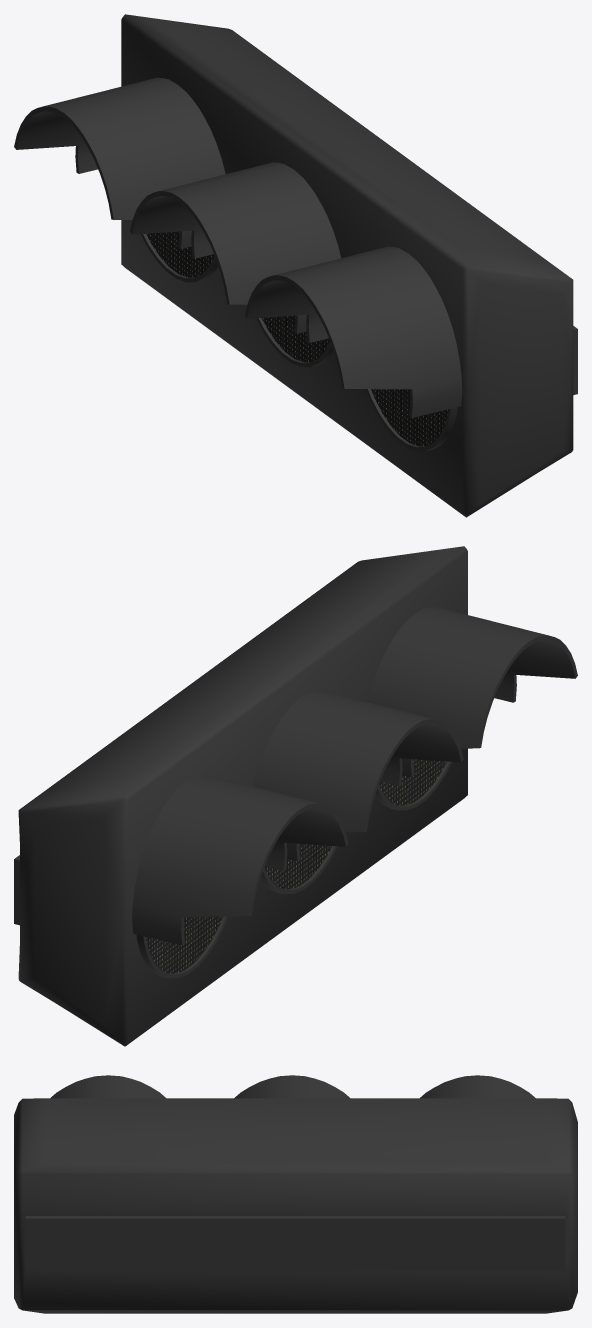
The model's file is 横排全方位灯.fbx.
3 views of the same model, one above another, from view 1: azimuth 30°, elevation 25°; view 2: azimuth 150°, elevation 25°; view 3: azimuth 270°, elevation 25° (orthographic). The views are drawn at different scales.
Parts seen in each view (by area): view 1: 横排全方位灯; view 2: 横排全方位灯; view 3: 横排全方位灯.
Boxes of the visible parts, x1,y1,x2,y2 form: 横排全方位灯: [14, 14, 577, 517]; 横排全方位灯: [14, 546, 577, 1046]; 横排全方位灯: [14, 1075, 577, 1313].
Bounding box in the file's own units: 0.6 × 0.65 × 1.58.
Materials: 2 (1 with a texture image).
